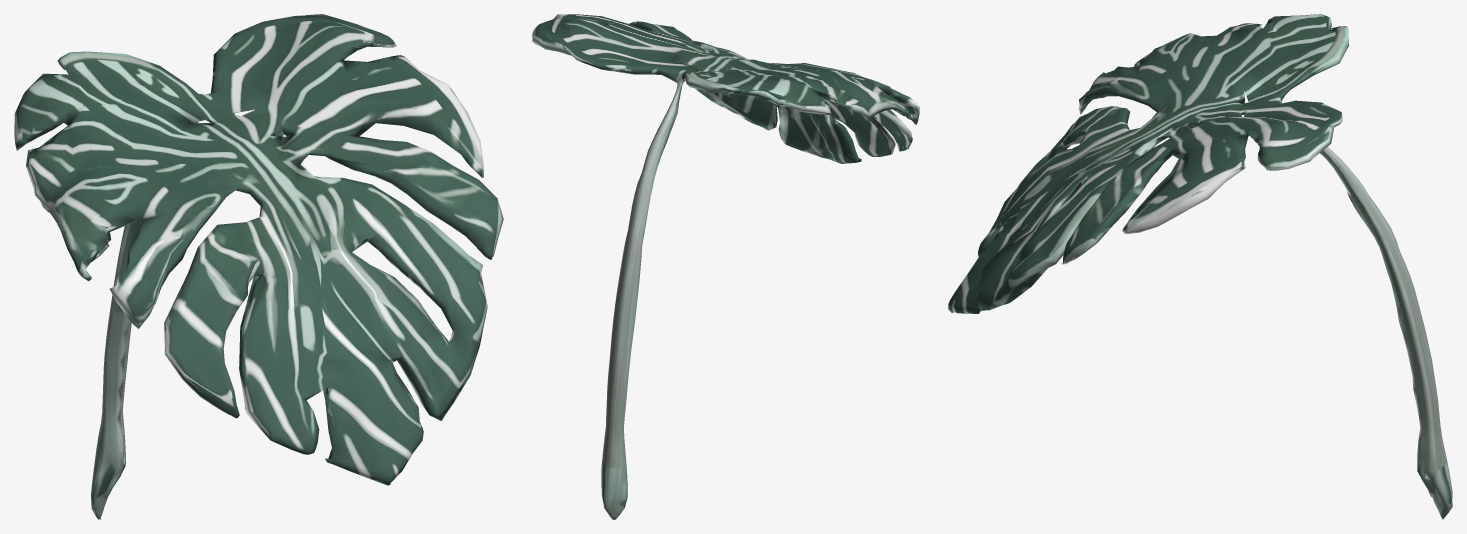
File: mon_zebra.glb
3 renders of one model, left to right at view 1: azimuth 30°, elevation 25°; view 2: azimuth 150°, elevation 25°; view 3: azimuth 270°, elevation 25°, orthographic. The views are drawn at different scales.
Bounding box in the file's own units: 1.63 × 1.99 × 2.
1 material, 1 textured.
